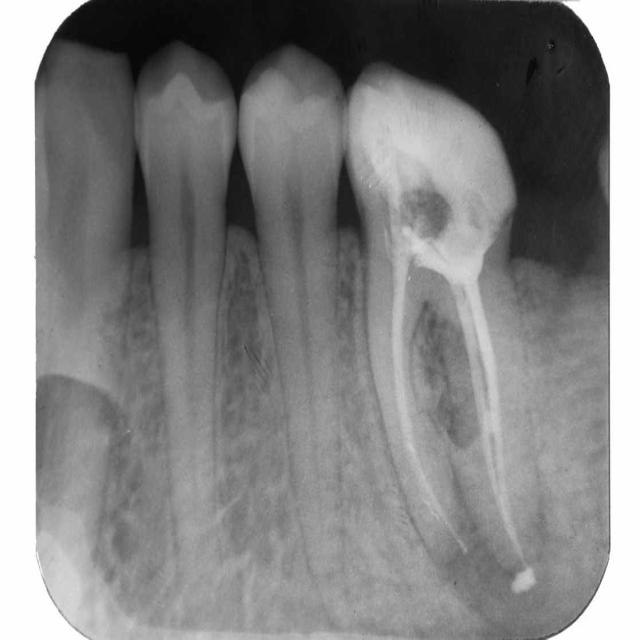Caries: (347, 62, 515, 572)
